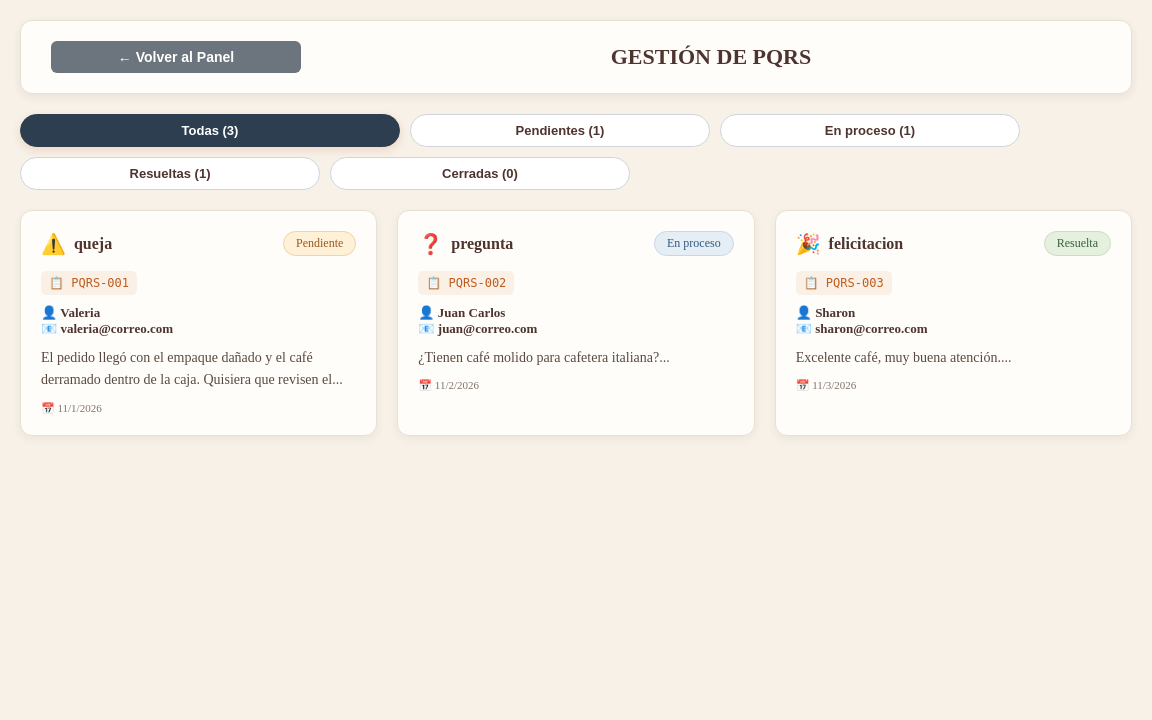
VerPqrs - responder / aprobar › modal › el textarea queda vacío si la PQRS no tiene respuesta
Expected: the heading "GESTIÓN DE PQRS" is shown, [611,44,811,69]
Click the text "📋 PQRS-001" at {"x": 89, "y": 283}, box [41,271,137,295]
(page scrolled)
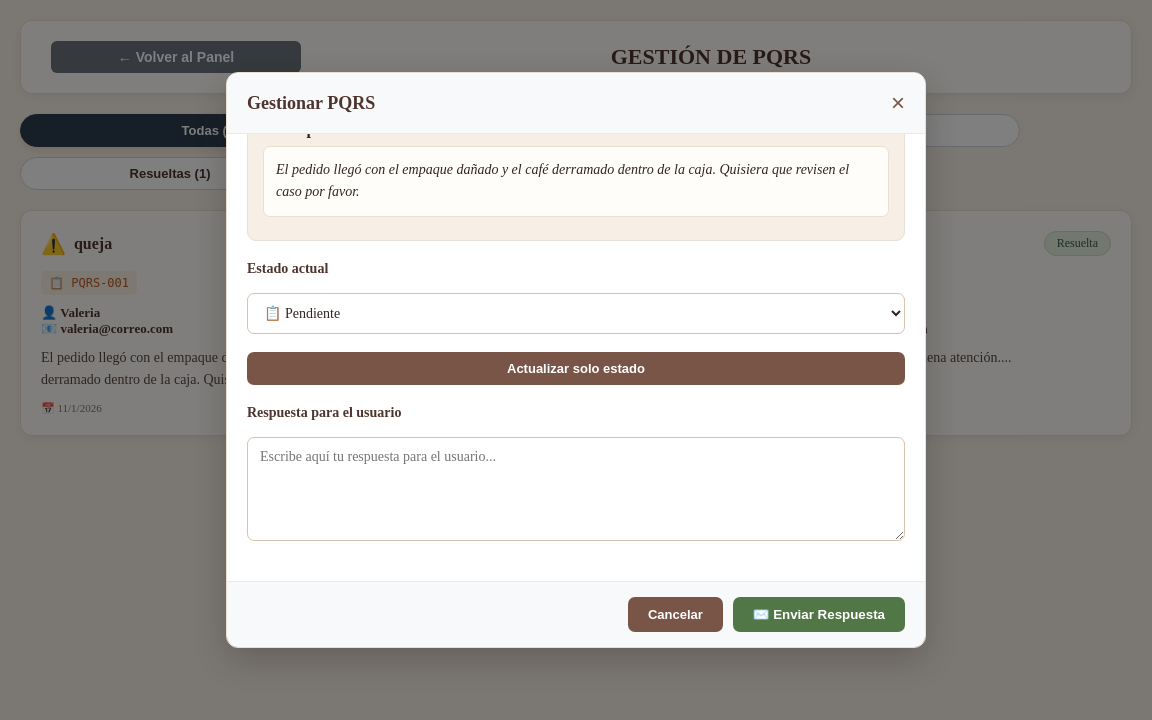
Now the heading "Gestionar PQRS" is shown, box [247,92,375,114]
Now the text box with placeholder "Escribe aquí tu respuesta para el usuario..." is empty, box [247,437,905,541]
